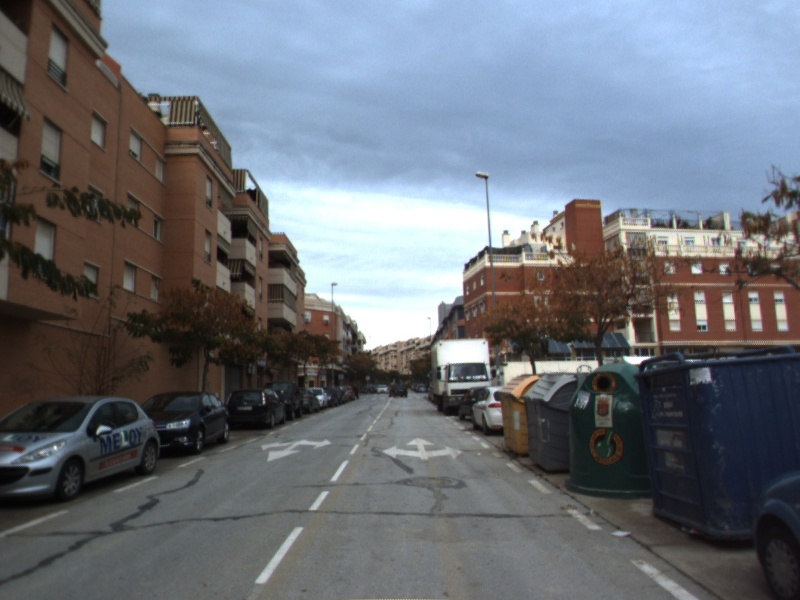STRAIGHT_LEFT_RIGHT: (380, 434, 464, 462)
